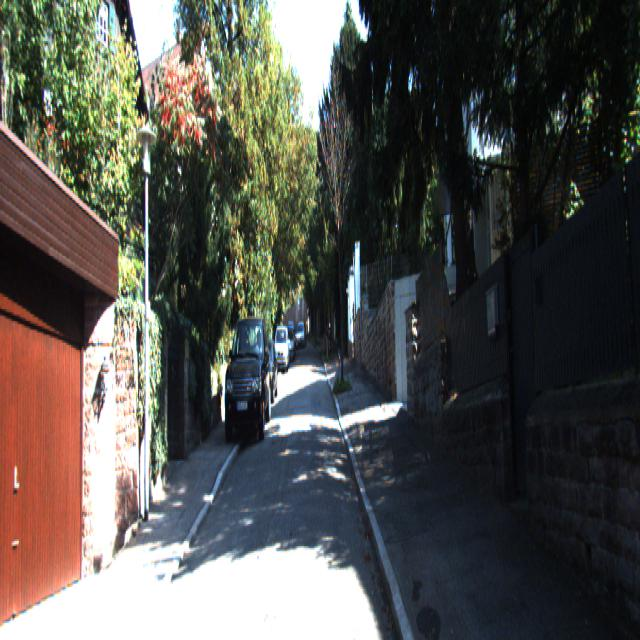Car: (222, 312, 272, 454), (273, 324, 289, 376)
